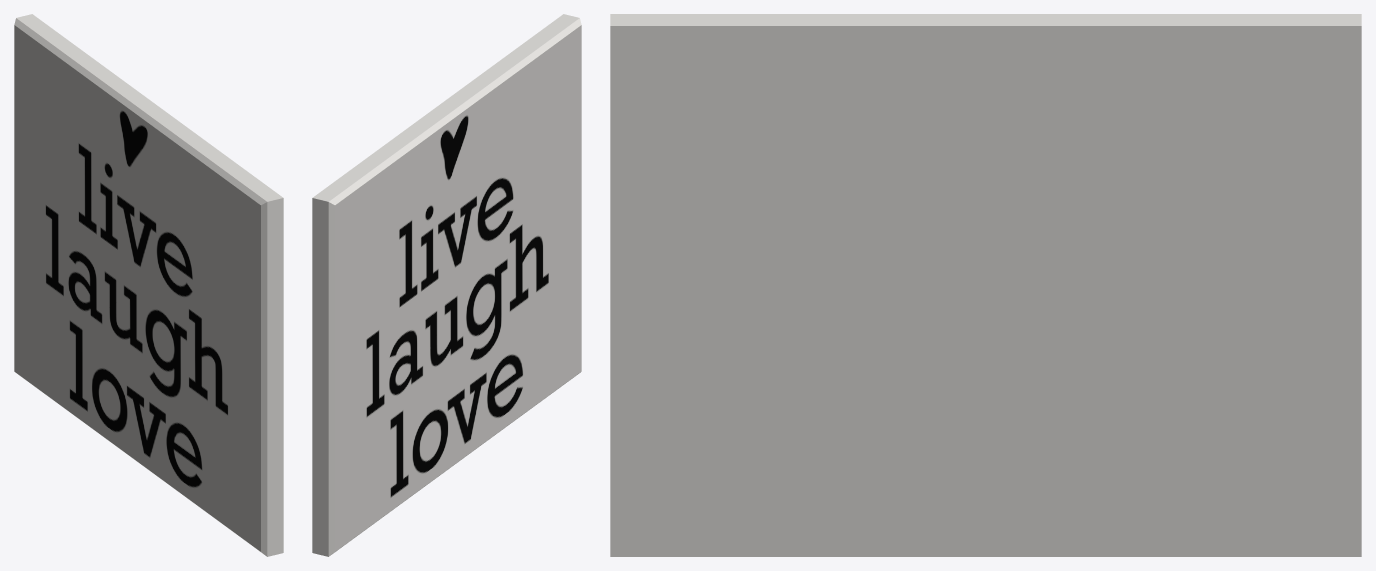
The model's file is 035_sign.fbx.
3 renders of one model, left to right at view 1: azimuth 30°, elevation 25°; view 2: azimuth 150°, elevation 25°; view 3: azimuth 270°, elevation 25°, orthographic. The views are drawn at different scales.
Visible parts, largest first — view 1: pCube75; view 2: pCube75; view 3: pCube75.
Part boxes in pixels (x1=…): pCube75: x1=14, y1=14, x2=283, y2=556; pCube75: x1=312, y1=14, x2=581, y2=556; pCube75: x1=610, y1=14, x2=1361, y2=556.
Bounding box in the file's own units: 0.2576 × 4.29 × 5.5.
